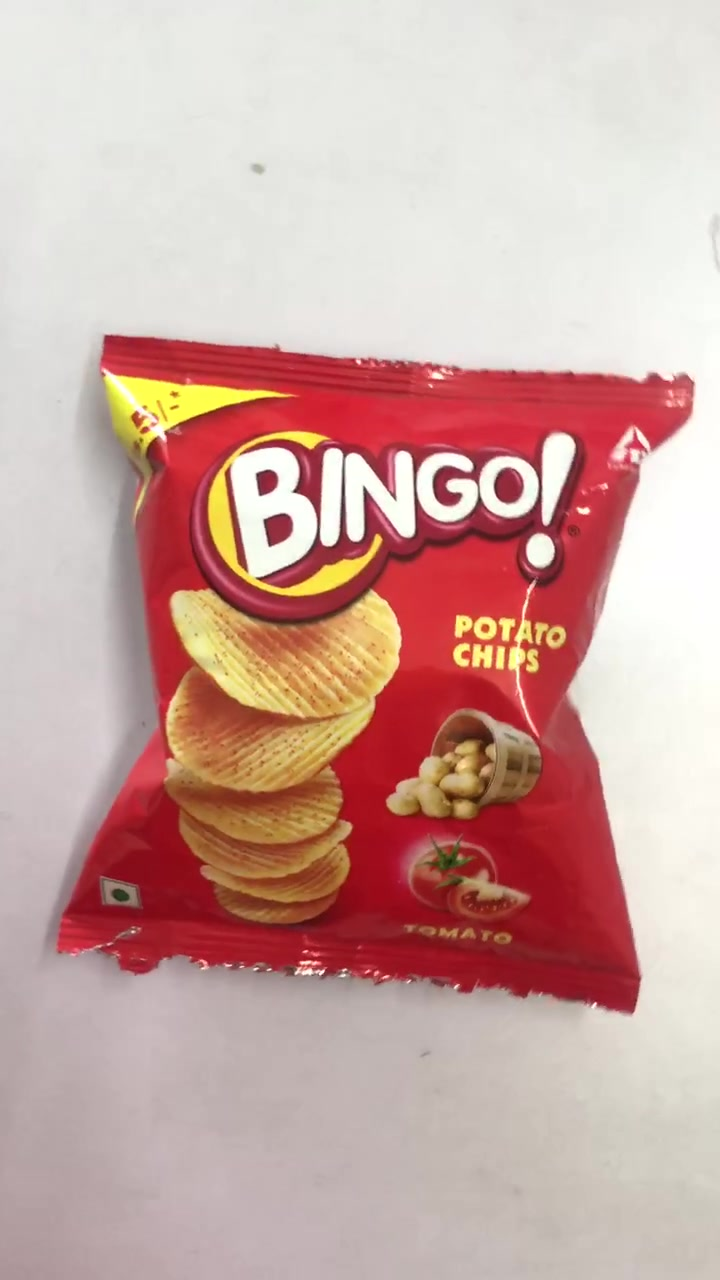Bingo: (59, 337, 684, 1020)
